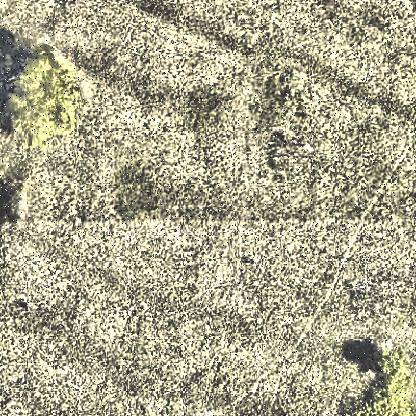tree-top: (2, 42, 88, 149), (345, 348, 411, 416), (1, 175, 30, 233)
